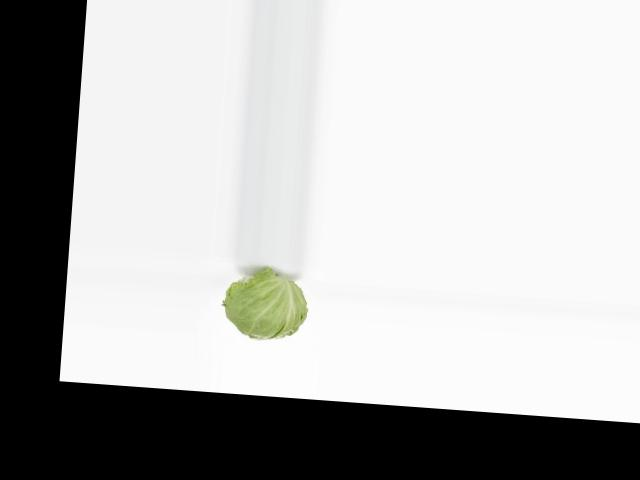lettuce: (217, 273, 315, 344)
